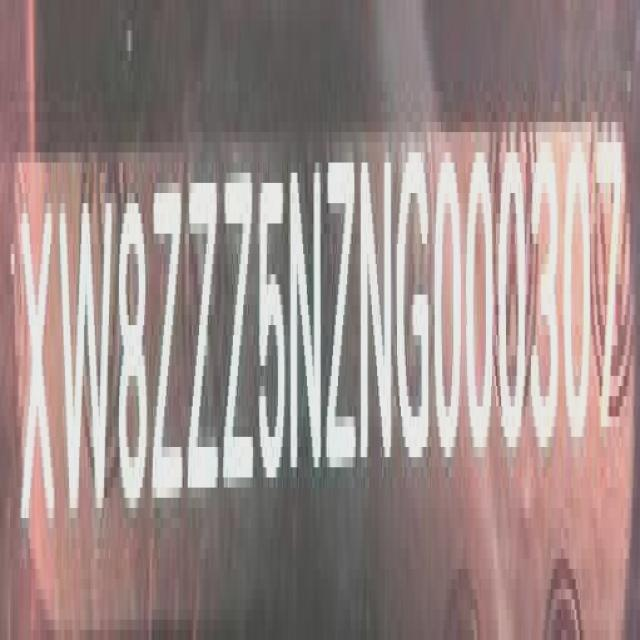0: (499, 121, 530, 455), (464, 118, 494, 461), (434, 126, 464, 465), (564, 115, 591, 452)
3: (530, 128, 559, 455)
5: (259, 156, 287, 490)
7: (595, 124, 627, 452)
8: (119, 180, 149, 525)
G: (398, 128, 433, 470)
N: (290, 150, 324, 493), (364, 133, 397, 477)
W: (60, 174, 113, 538)
X: (19, 177, 54, 542)
Z: (222, 158, 254, 507), (190, 158, 221, 513), (327, 145, 358, 486), (154, 174, 184, 517)
